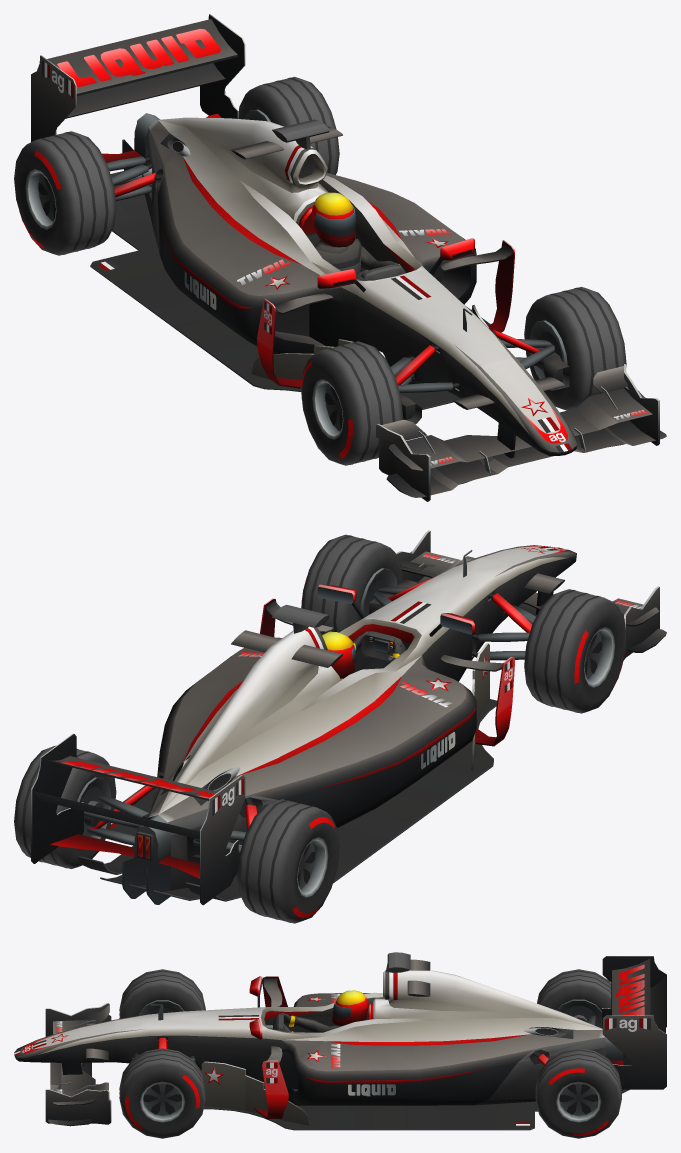
Rendered from Race_Car_8A.fbx.
The picture shows the model from 3 angles, top to bottom: view 1: azimuth 30°, elevation 25°; view 2: azimuth 150°, elevation 25°; view 3: azimuth 270°, elevation 25°; orthographic projection. The views are drawn at different scales.
Parts seen in each view (by area): view 1: Race_Car_8A_Body, Race_Car_8A_Front_Wing, Race_Car_8A_Rear_Wing, Wheel_8A_R.R, Wheel_8A_F.R, Wheel_8A_F.L, Race_Car_8A_Nose, Wheel_8A_R.L, Race_Car_8A_Rear_Wing_Livery, Helmet_8A, Race_Car_8A_Body_Livery, Wheel_Pivot_8A_F.L (+4 smaller); view 2: Race_Car_8A_Body, Race_Car_8A_Rear_Wing, Wheel_8A_F.R, Wheel_8A_R.R, Wheel_8A_F.L, Race_Car_8A_Front_Wing, Wheel_8A_R.L, Race_Car_8A_Nose, Race_Car_8A_Body_Livery, Suspension_8A_R.L, Suspension_8A_F.R, Race_Car_8A_Rear_Wing_Livery (+6 smaller); view 3: Race_Car_8A_Body, Race_Car_8A_Rear_Wing, Wheel_8A_R.L, Wheel_8A_F.L, Race_Car_8A_Front_Wing, Race_Car_8A_Nose, Wheel_8A_F.R, Wheel_8A_R.R, Race_Car_8A_Body_Livery, Race_Car_8A_Rear_Wing_Livery, Helmet_8A, Wheel_Pivot_8A_R.R (+2 smaller).
Boxes of the visible parts, box(x1,y1,x2,y2) form: Race_Car_8A_Body: box(90, 113, 515, 409); Race_Car_8A_Front_Wing: box(376, 364, 666, 501); Race_Car_8A_Rear_Wing: box(31, 14, 245, 162); Wheel_8A_R.R: box(14, 131, 116, 255); Wheel_8A_F.R: box(301, 341, 403, 465); Wheel_8A_F.L: box(524, 287, 626, 410); Race_Car_8A_Nose: box(452, 358, 576, 458); Wheel_8A_R.L: box(238, 76, 339, 174); Race_Car_8A_Rear_Wing_Livery: box(42, 29, 220, 99); Helmet_8A: box(311, 192, 356, 247); Race_Car_8A_Body_Livery: box(99, 229, 452, 334); Wheel_Pivot_8A_F.L: box(529, 320, 569, 390); Race_Car_8A_Body: box(77, 549, 520, 904); Race_Car_8A_Rear_Wing: box(31, 733, 245, 905); Wheel_8A_F.R: box(524, 589, 626, 713); Wheel_8A_R.R: box(237, 799, 339, 923); Wheel_8A_F.L: box(301, 534, 402, 634); Race_Car_8A_Front_Wing: box(395, 530, 666, 660); Wheel_8A_R.L: box(14, 745, 116, 868); Race_Car_8A_Nose: box(455, 545, 576, 614); Race_Car_8A_Body_Livery: box(109, 601, 512, 829); Suspension_8A_R.L: box(84, 785, 154, 845); Suspension_8A_F.R: box(472, 593, 535, 660); Race_Car_8A_Rear_Wing_Livery: box(61, 761, 243, 816); Race_Car_8A_Body: box(115, 952, 631, 1130); Race_Car_8A_Rear_Wing: box(602, 956, 666, 1089); Wheel_8A_R.L: box(535, 1048, 621, 1138); Wheel_8A_F.L: box(119, 1048, 205, 1138); Race_Car_8A_Front_Wing: box(45, 1003, 111, 1126); Race_Car_8A_Nose: box(14, 1019, 114, 1074); Wheel_8A_F.R: box(119, 969, 205, 1018); Wheel_8A_R.R: box(537, 969, 611, 1011); Race_Car_8A_Body_Livery: box(204, 993, 529, 1126); Race_Car_8A_Rear_Wing_Livery: box(605, 964, 650, 1031); Helmet_8A: box(332, 990, 369, 1026); Wheel_Pivot_8A_R.R: box(557, 999, 601, 1028).
Size of the model in its own units: 2.27 by 1.44 by 6.37.
